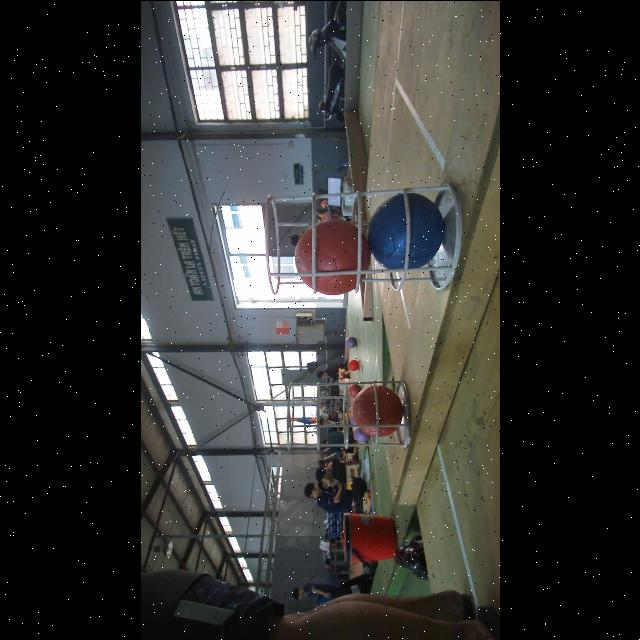B: (367, 192, 445, 272)
R: (295, 217, 369, 295)
